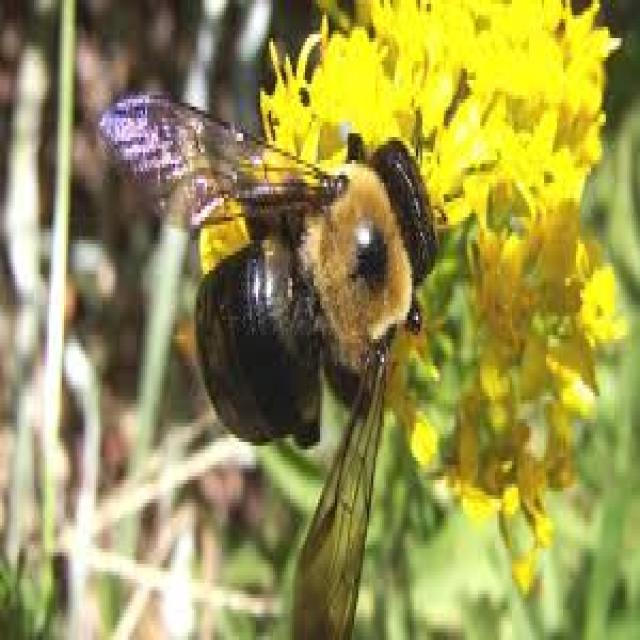Xylocopa: (121, 69, 438, 596)
